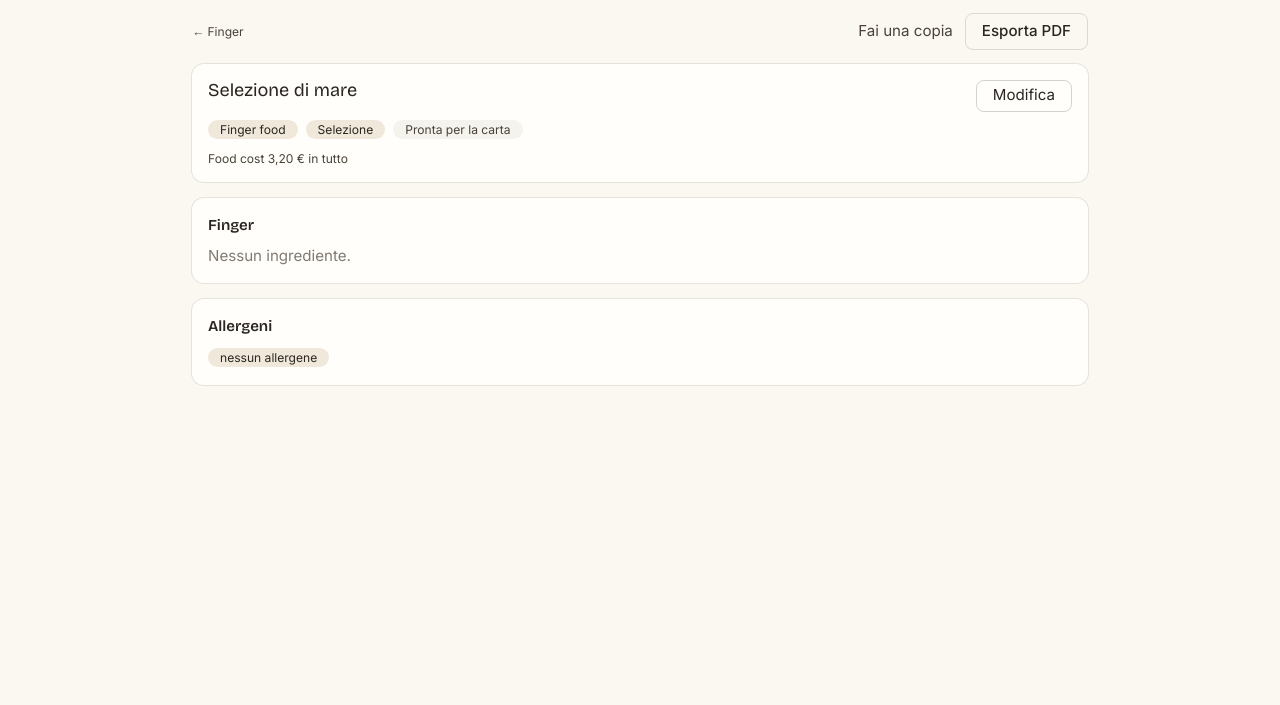
Test: 🔴 la scheda di un piatto, pannello «Nei menu» › un finger food: nessun «+ menu», il menu dove sta già resta toglibile, e la frase dice perché
What coordinates should you click on to do the following:
click the button "Modifica"
I would click on:
 (1024, 96)
Its box is [976,80,1072,112].
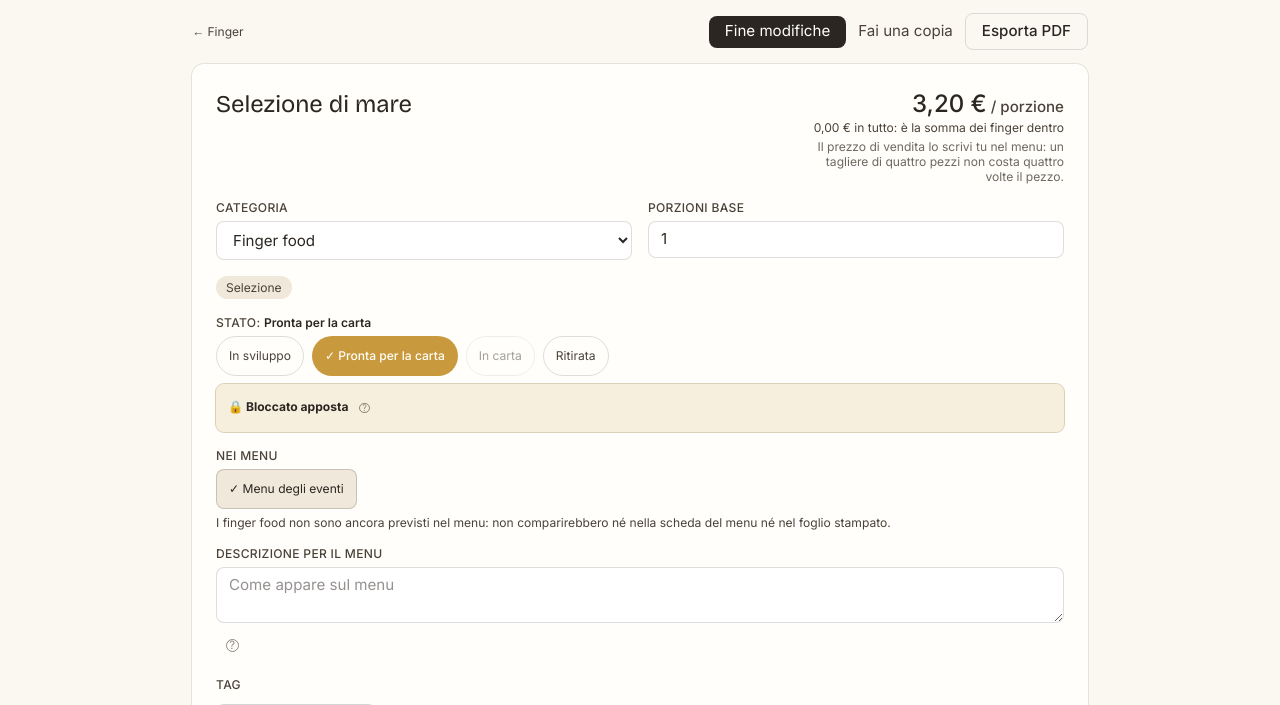
expect the text "Nei menu" is shown: met, box [216,448,278,463]
expect the button "✓ Menu degli eventi" is shown: met, box [216,469,357,509]
expect the text "I finger food non sono ancora previsti nel menu" is shown: met, box [216,515,891,530]
